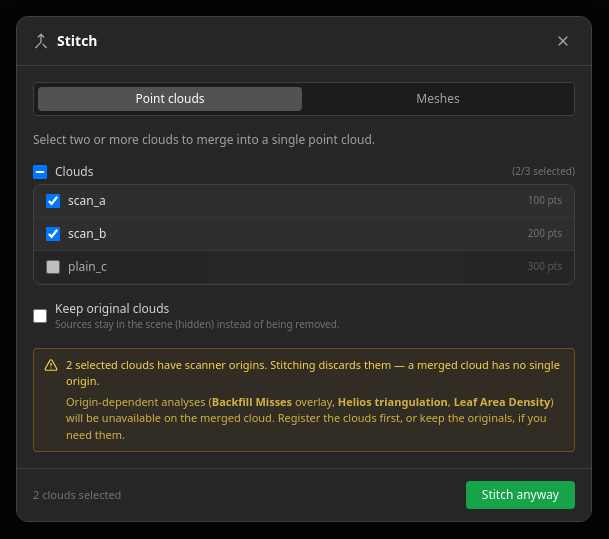
Test: StitchDialog retain-originals option › tells the user the origins survive on the retained clouds
Expected: the element with test id "stitch-origin-warning" shows "Register the clouds first", left=66, top=410, right=547, bottom=442
Click the 5th checkbox at (40, 316), box left=33, top=309, right=47, bottom=323
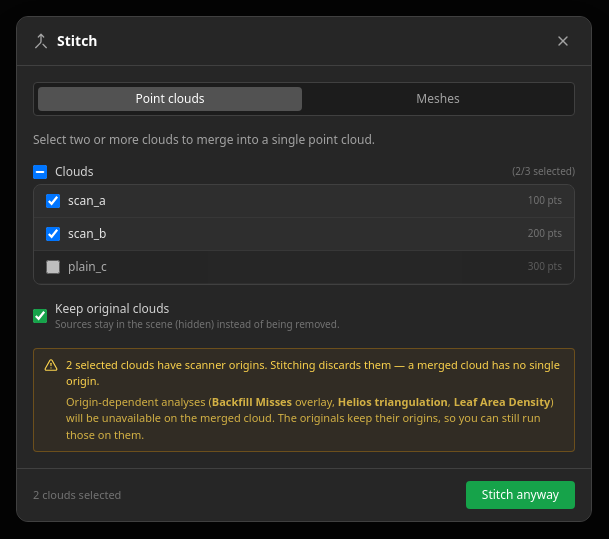
Expected: the element with test id "stitch-origin-warning" shows "The originals keep their origins", left=66, top=410, right=540, bottom=442
